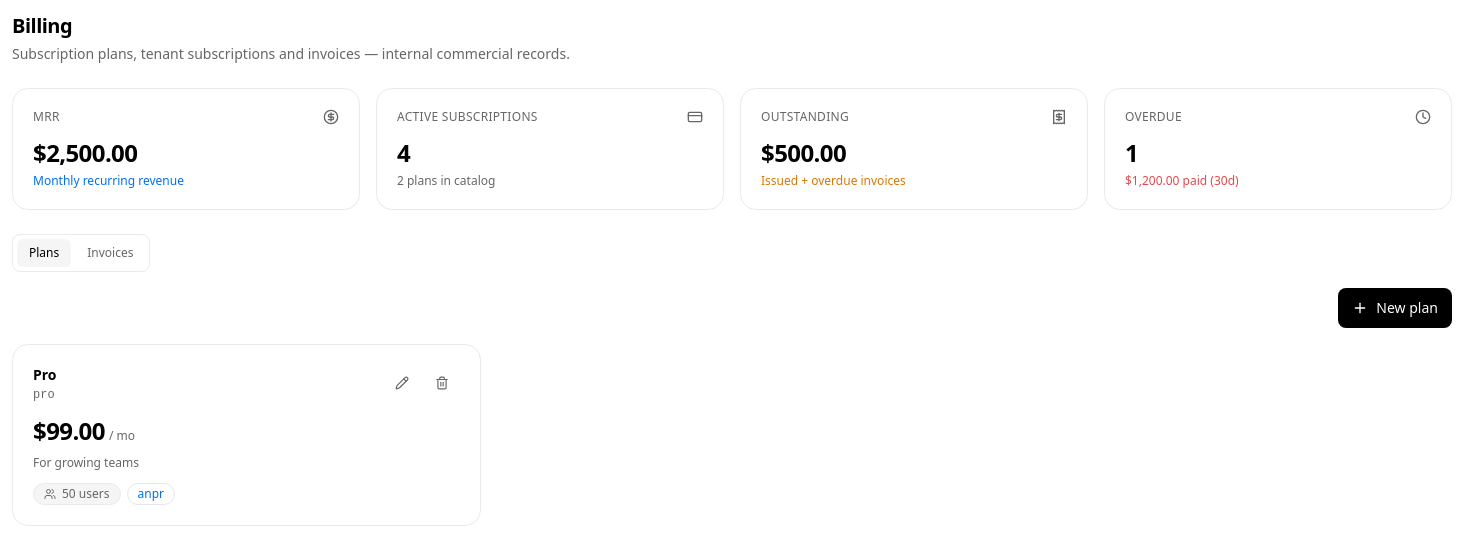
Scenario: invoices › offers no action at all on an already-voided invoice
What coordinates should you click on to do the following:
click the tab "Invoices"
I would click on:
 (110, 253)
Its box is [75,239,146,267].
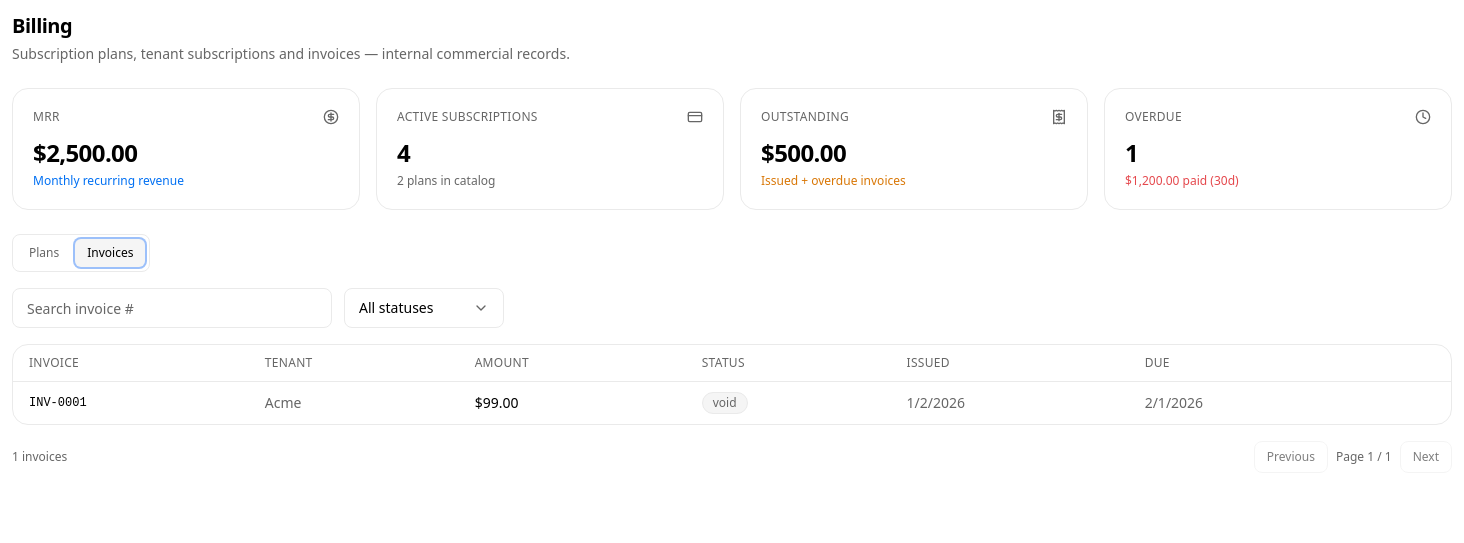
Check: the text "INV-0001" is shown, box [13,382,249,424]
